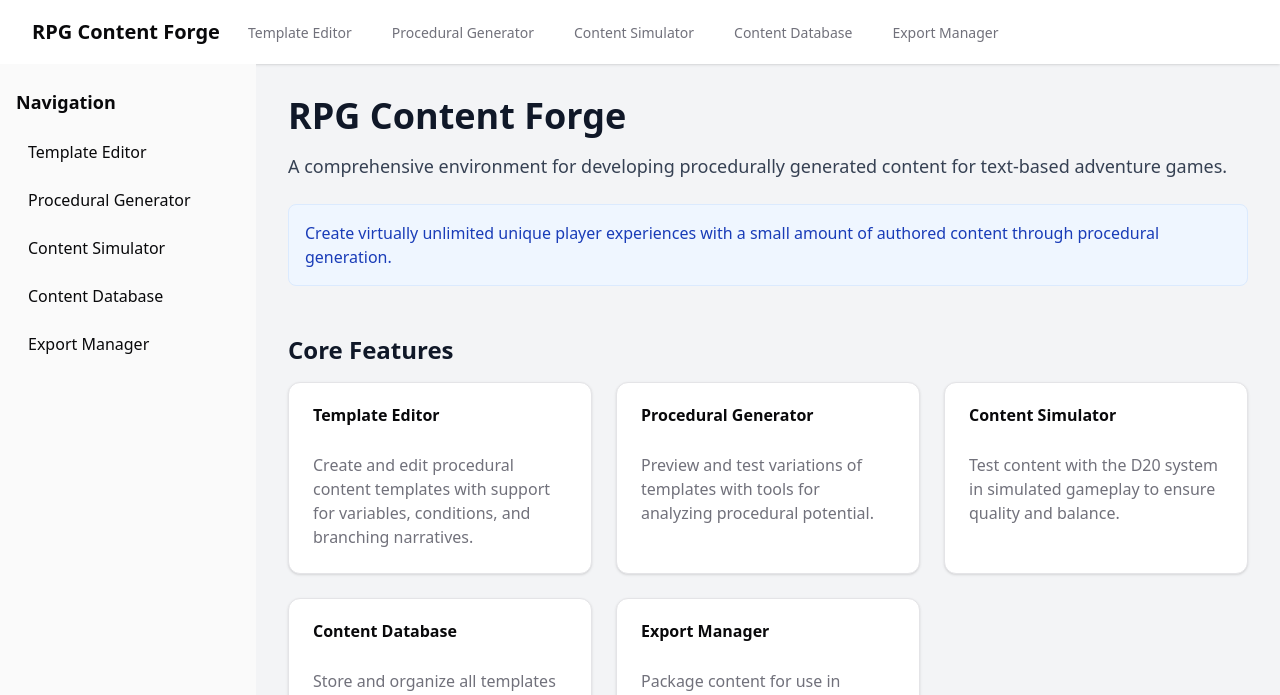
Test case: Home Page › navigates to Export Manager page
Click on the Export Manager card
Click the 1st link "Export Manager" at x=945, y=33, box [892,23,998,42]
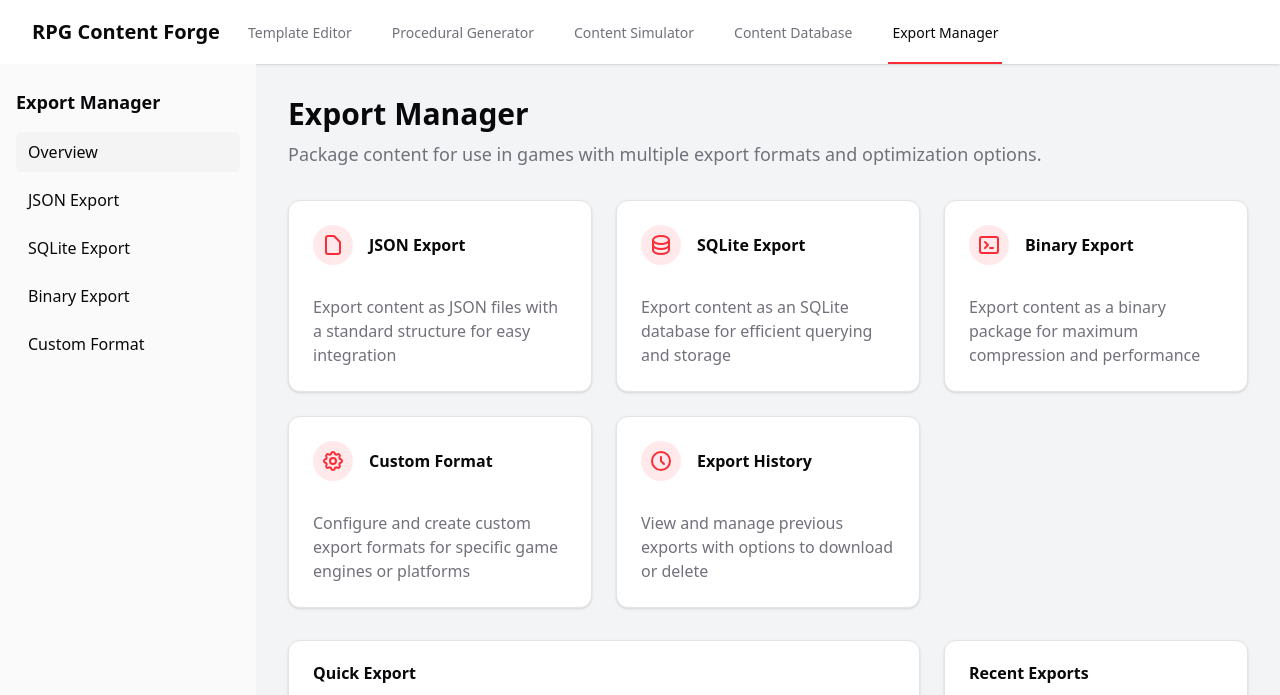
Check: the 2nd heading "Export Manager" is shown, box [288,93,529,134]
